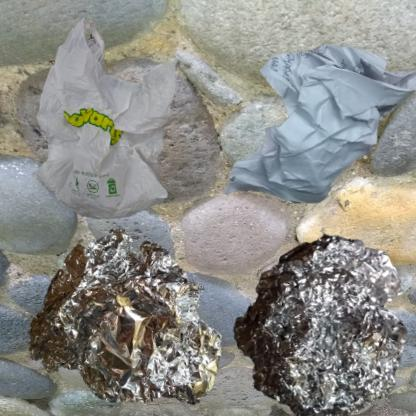aluminio: (10, 213, 236, 416), (213, 213, 416, 416)
bolsa: (10, 10, 228, 259)
papel: (213, 10, 416, 272)
